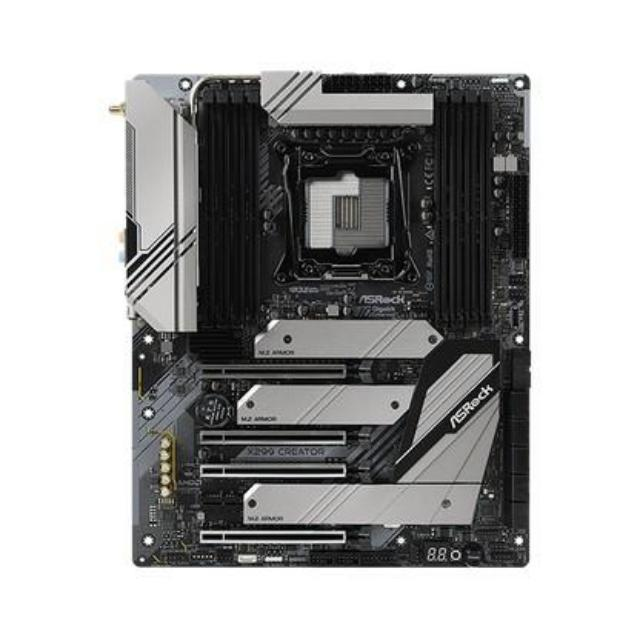Mainboard: (117, 61, 546, 579)
